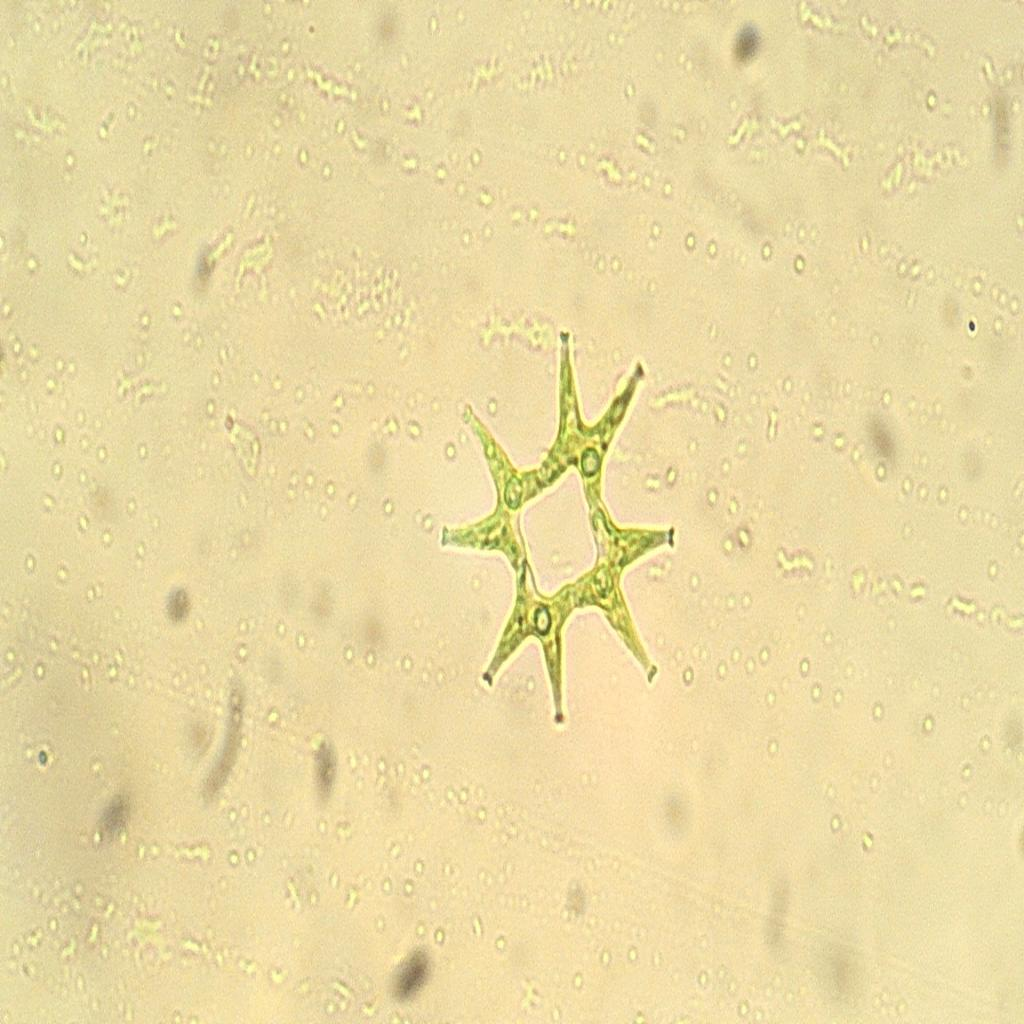Pediastrum_75O: (426, 308, 688, 750)
